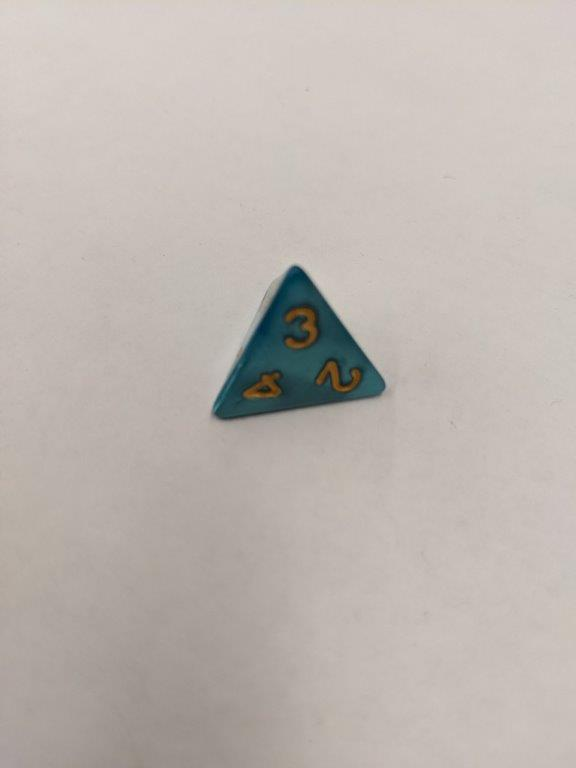d4-3: (210, 262, 392, 430)
